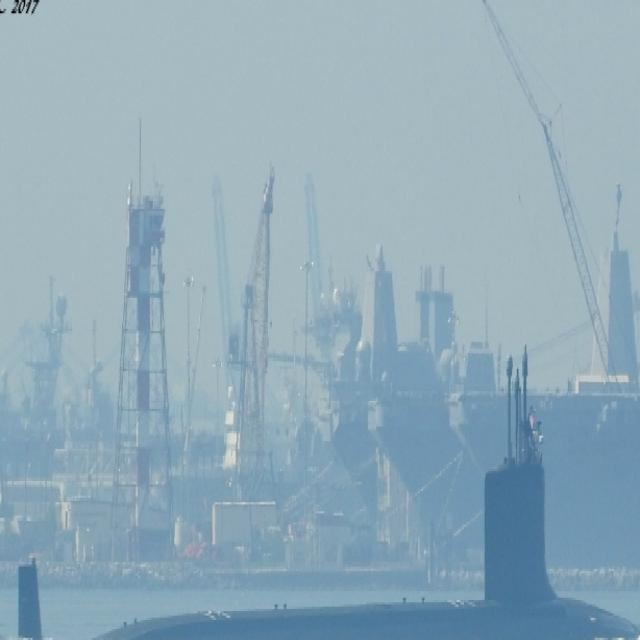submarine: (17, 465, 640, 640)
